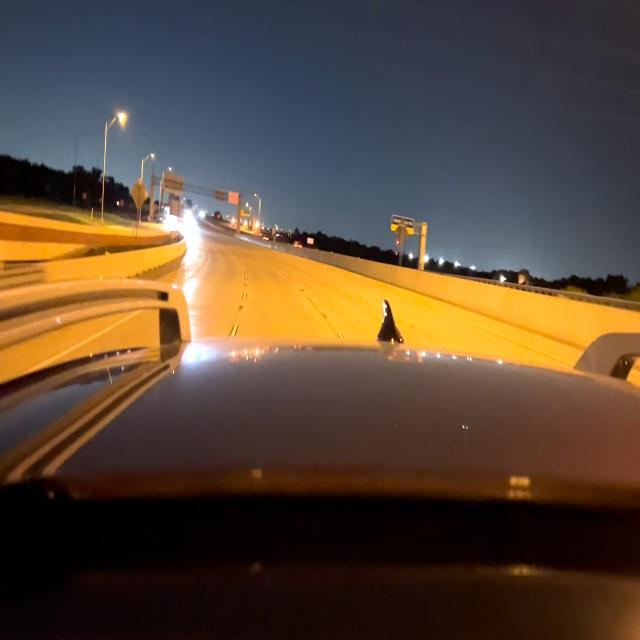back-of-sign: (132, 181, 147, 210)
